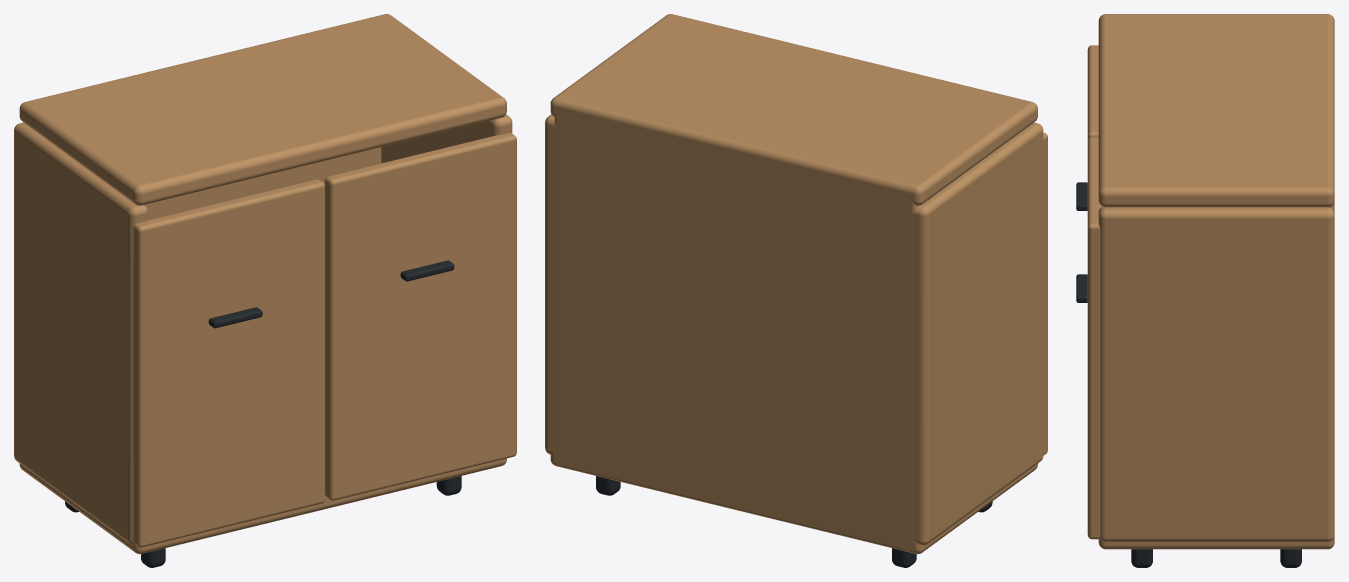
Rendered from storage-3.glb.
The picture shows the model from 3 angles, left to right: view 1: azimuth 30°, elevation 25°; view 2: azimuth 150°, elevation 25°; view 3: azimuth 270°, elevation 25°; orthographic projection.
Visible parts, largest first — view 1: storage:3:archviz; view 2: storage:3:archviz; view 3: storage:3:archviz.
Boxes of the visible parts, box(x1,y1,x2,y2) form: storage:3:archviz: box(14, 14, 516, 567); storage:3:archviz: box(545, 14, 1047, 567); storage:3:archviz: box(1076, 14, 1334, 567).
Bounding box in the file's own units: 0.7 × 0.7 × 0.416.
